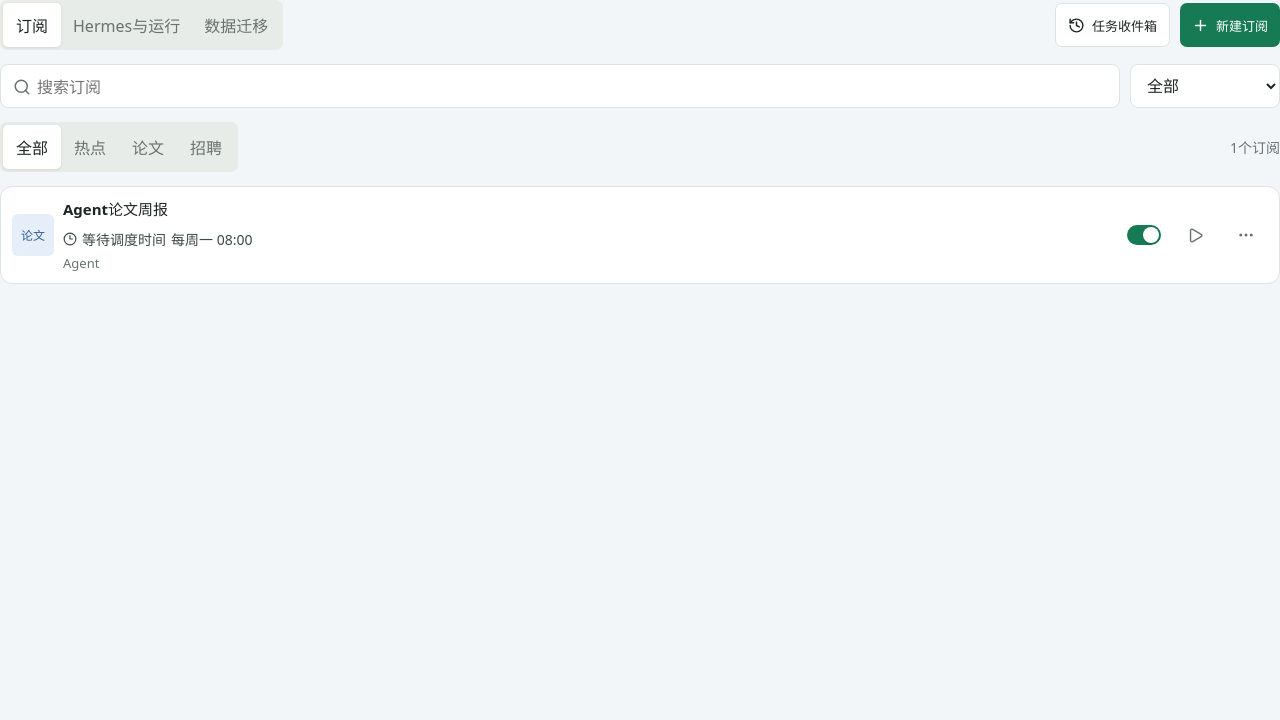
Test: 暂停确认支持Escape并把焦点还给开关
Click the checkbox named "暂停Agent论文周报": (1144, 235) [1127,225,1161,245]
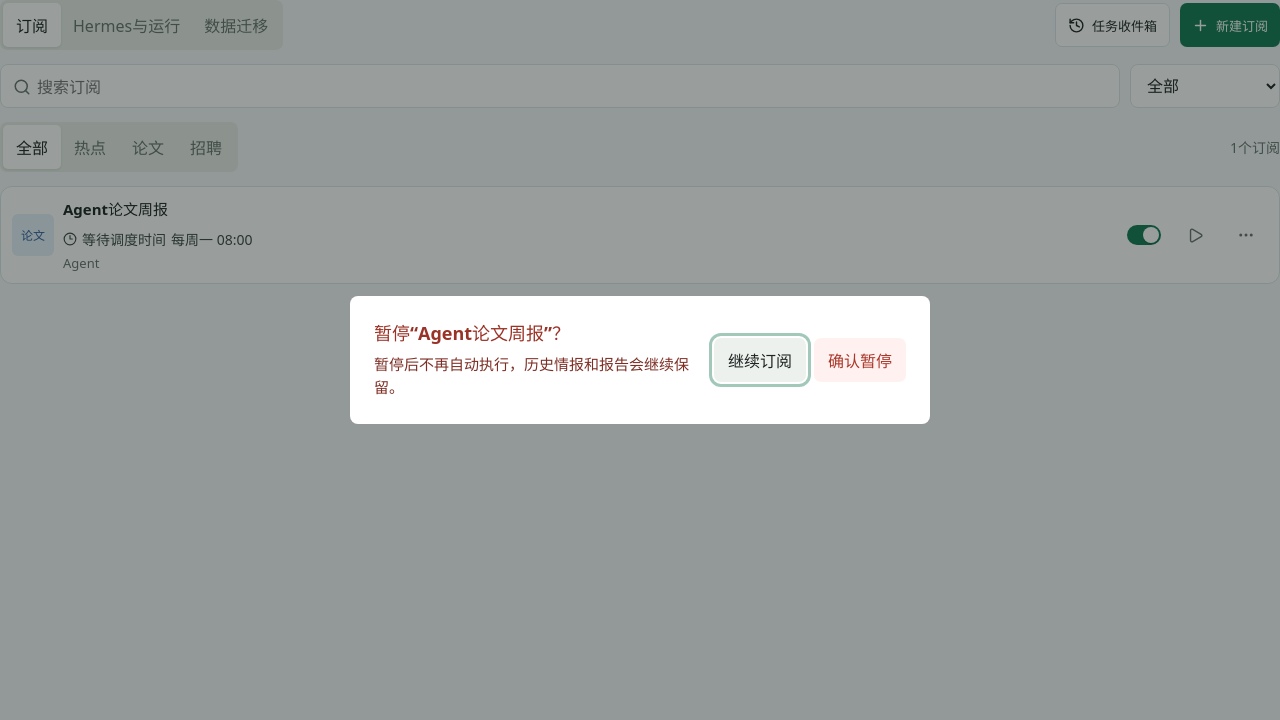
Press Escape
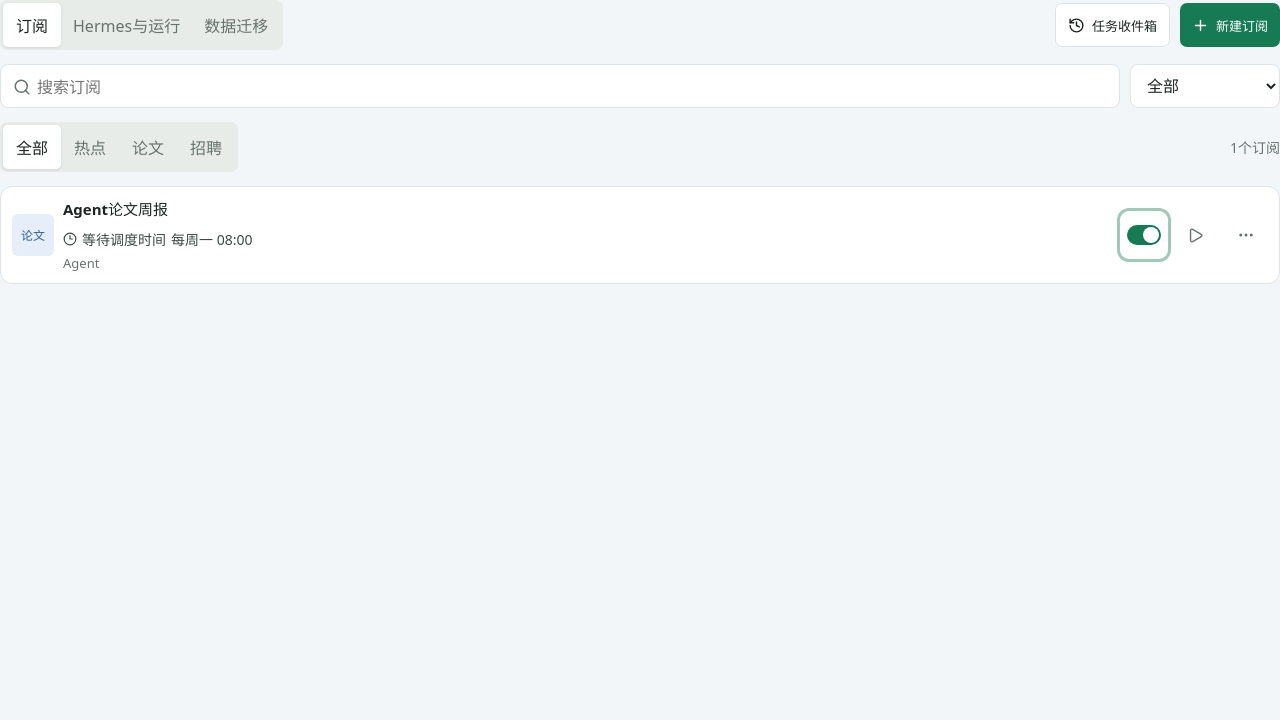
Check: the dialog is gone
